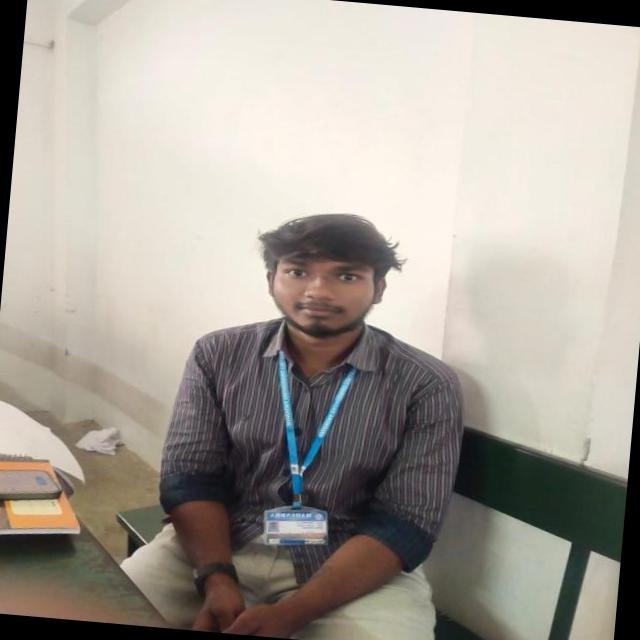id_card: (252, 351, 360, 550)
